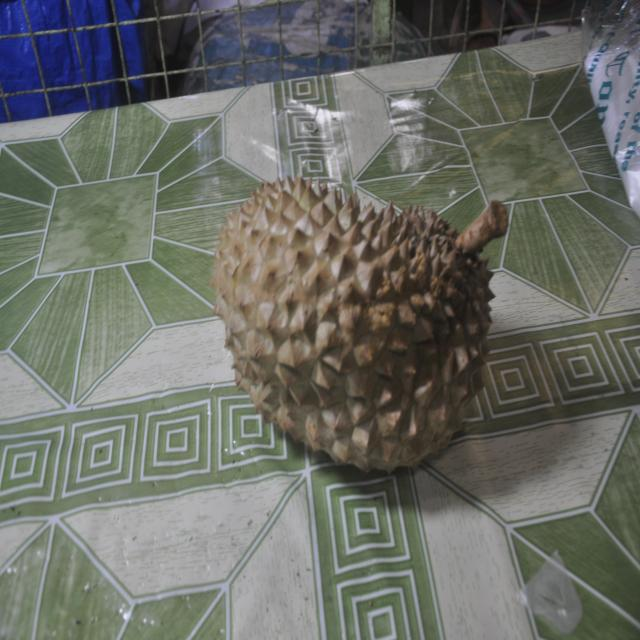mature: (211, 177, 508, 473)
